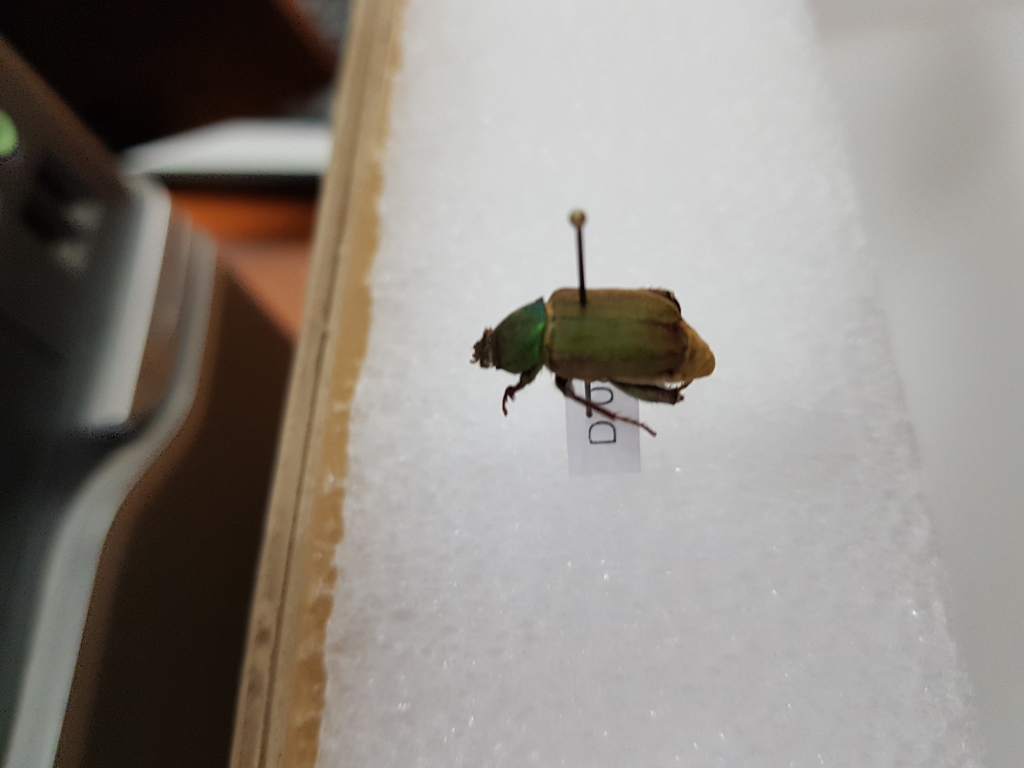Glaphyrus_superbus: (466, 275, 720, 435)
